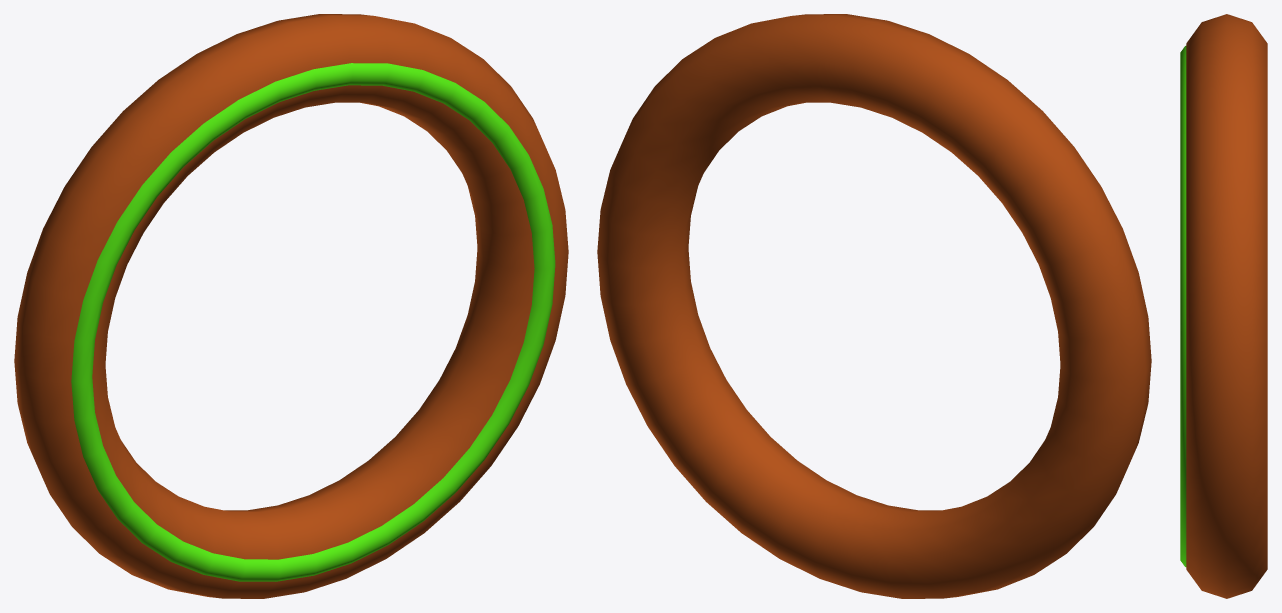
The model's file is hill-loop.obj.
The picture shows the model from 3 angles, left to right: view 1: azimuth 30°, elevation 25°; view 2: azimuth 150°, elevation 25°; view 3: azimuth 270°, elevation 25°; orthographic projection. The views are drawn at different scales.
Visible parts, largest first — view 1: surface; view 2: surface; view 3: surface.
Part boxes in pixels (x1=…): surface: x1=14, y1=14, x2=568, y2=598; surface: x1=597, y1=14, x2=1151, y2=598; surface: x1=1180, y1=14, x2=1267, y2=598.
Bounding box in the file's own units: 3.28 × 3.28 × 0.4896.
